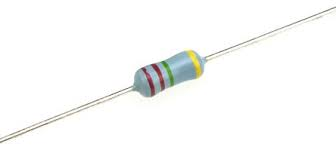resistor: (115, 23, 219, 114)
